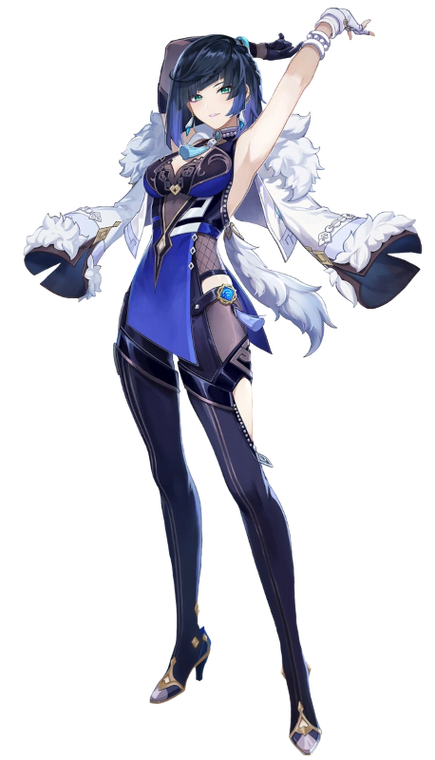夜兰: (111, 4, 381, 756)
